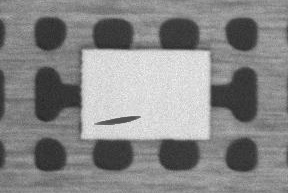DIE_INK: (94, 115, 140, 126)
